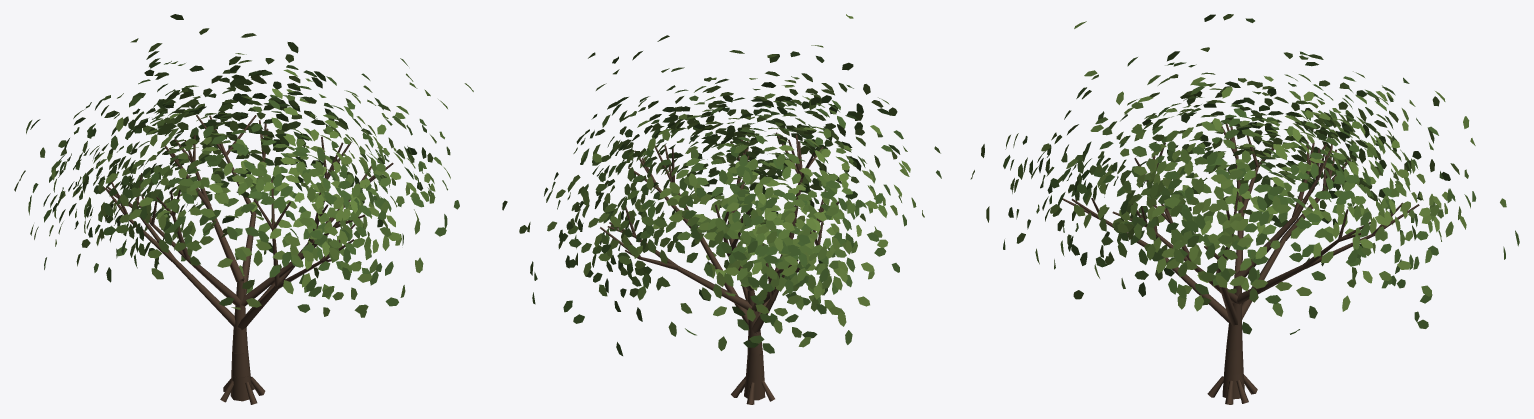
The model's file is oak_2.glb.
The picture shows the model from 3 angles, left to right: view 1: azimuth 30°, elevation 25°; view 2: azimuth 150°, elevation 25°; view 3: azimuth 270°, elevation 25°; orthographic projection. The views are drawn at different scales.
Parts seen in each view (by area): view 1: oak_2_LOD0; view 2: oak_2_LOD0; view 3: oak_2_LOD0.
Part boxes in pixels (x1,y1,x2,y2): oak_2_LOD0: (14,14,473,404); oak_2_LOD0: (502,14,941,404); oak_2_LOD0: (970,14,1519,404).
Size of what is drawn, in the model's own units: 2.86 by 2.54 by 3.49.
